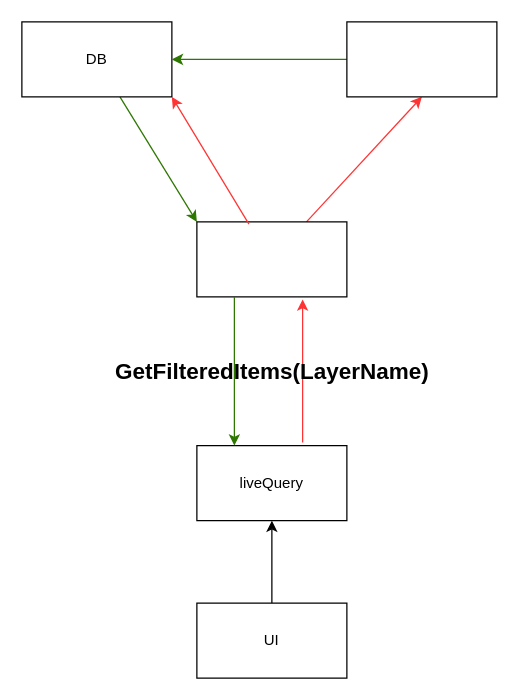
The diagram is 519 pixels wide and 700 high, and some of its shapes have lost their labels. Each missing label, with the box of its shape:
queryService: (196, 221, 347, 297)
server API: (346, 21, 497, 97)
